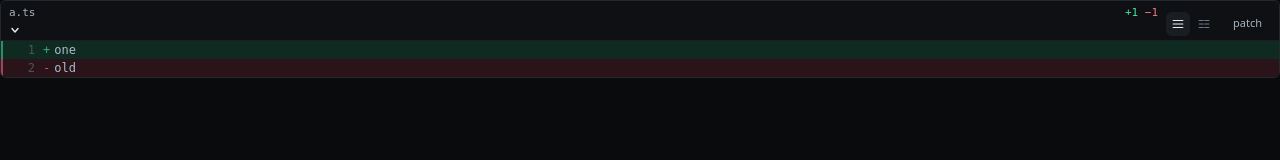
it: DiffViewer › starts open with defaultOpen and still toggles closed
Click the button "a.ts +1 −1" at (22, 12), box [9,5,1158,36]
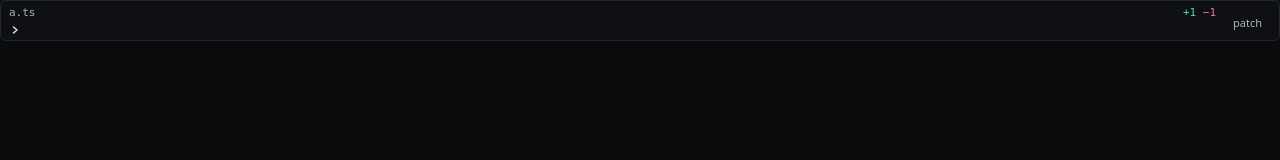
Result: the button "a.ts +1 −1" is collapsed at [9,5,1216,36]
